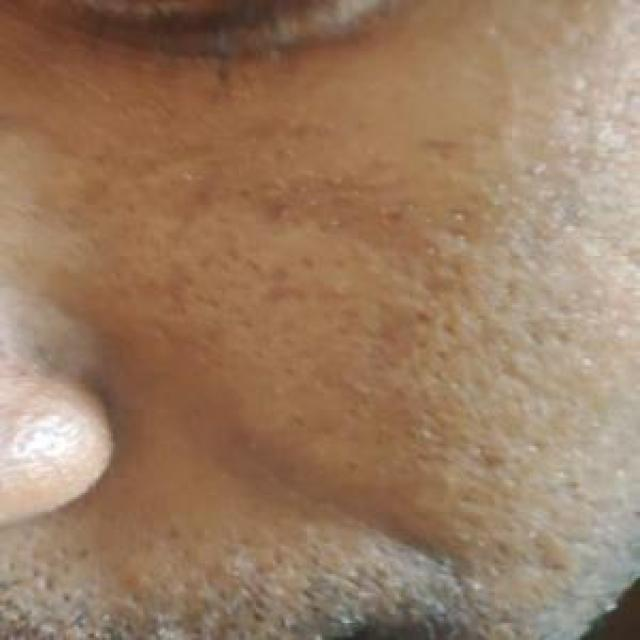Dry-Skin: (154, 142, 640, 551)
